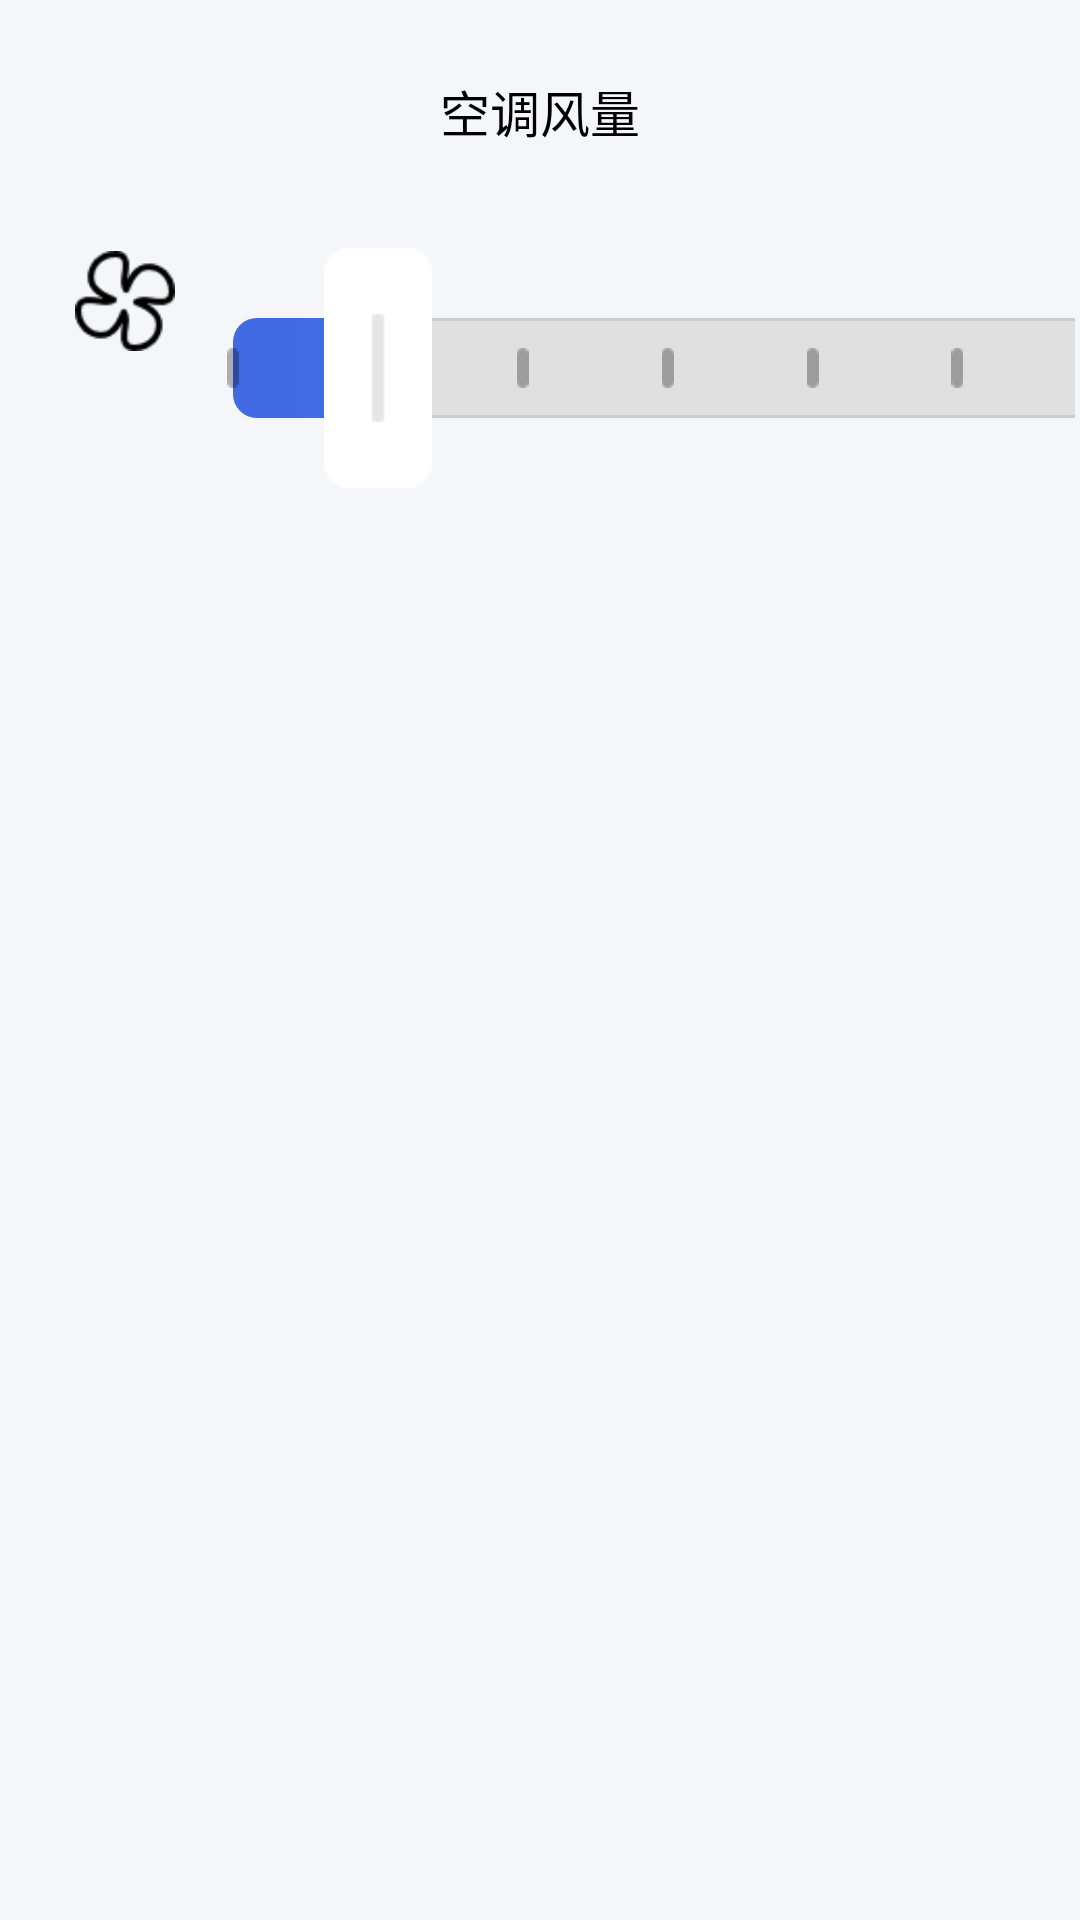

Point at icon controls on the screen. Image size 1080px x 1920px, points as (x=x, y=y).
kongtiaofengliang fw: (x=125, y=301)
